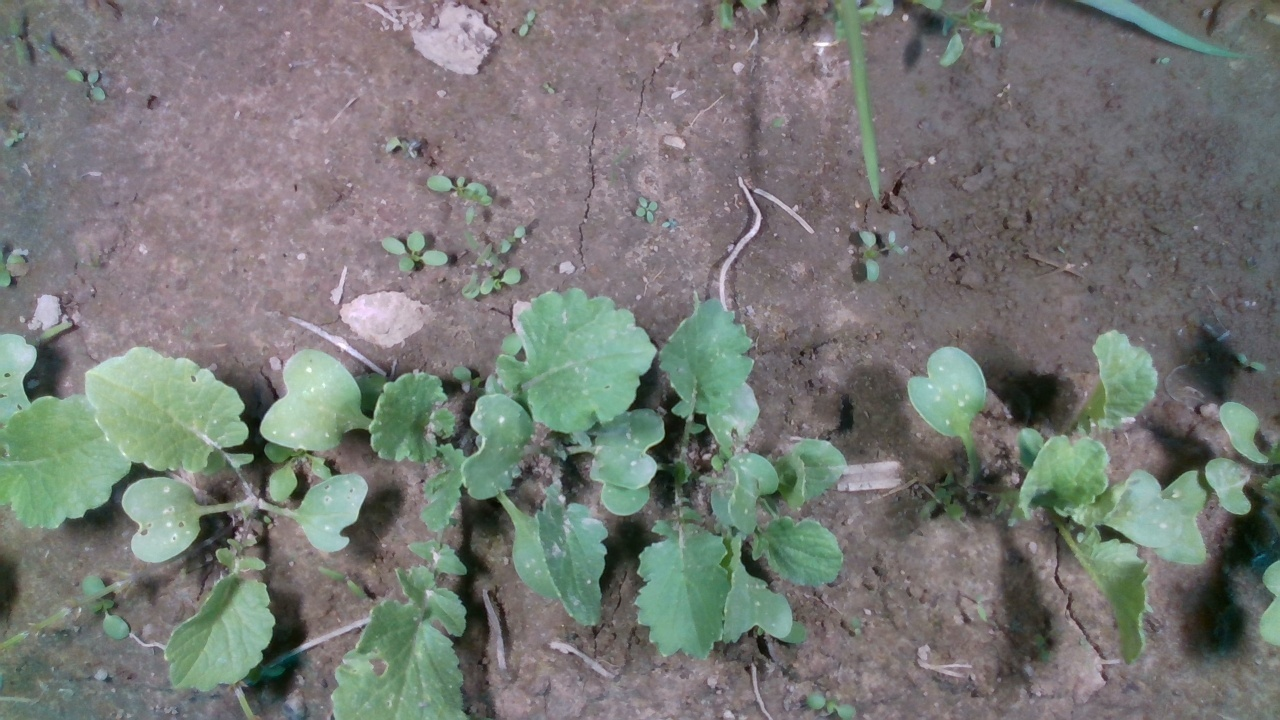weed: (379, 230, 448, 274), (62, 68, 106, 102), (805, 692, 857, 719), (858, 228, 881, 283), (1235, 350, 1267, 372), (634, 196, 659, 222), (518, 8, 536, 37), (887, 228, 905, 255), (540, 82, 556, 97), (1153, 55, 1171, 65)
